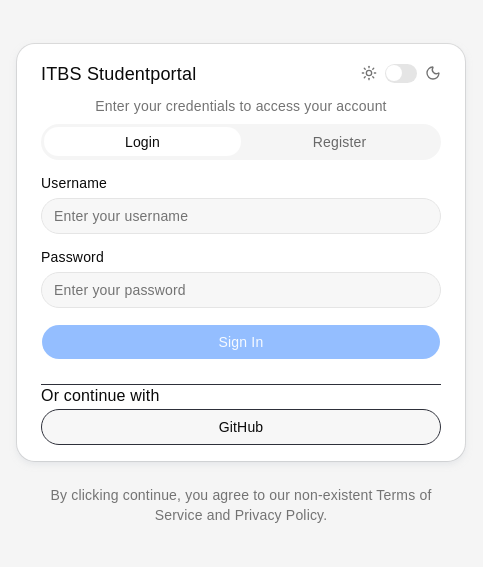
LoginPage › failed login displays error message
This screenshot has width=483, height=567.
Step 1. Type "wronguser" into the field labelled "Username" → (241, 216), box [41, 198, 441, 234]
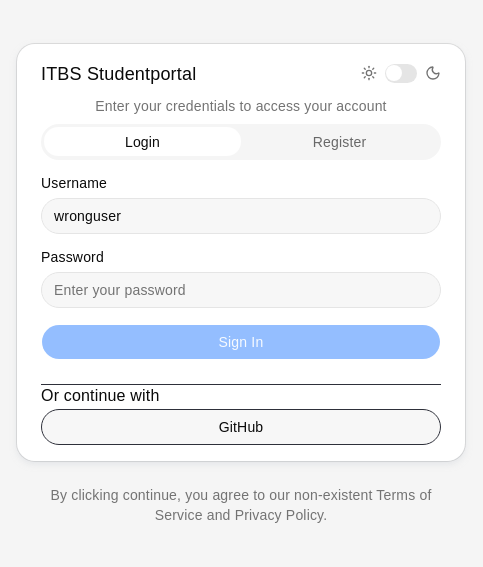
Step 2. Type "wrongpass" into the password field labelled "Password" → (241, 290), box [41, 272, 441, 308]
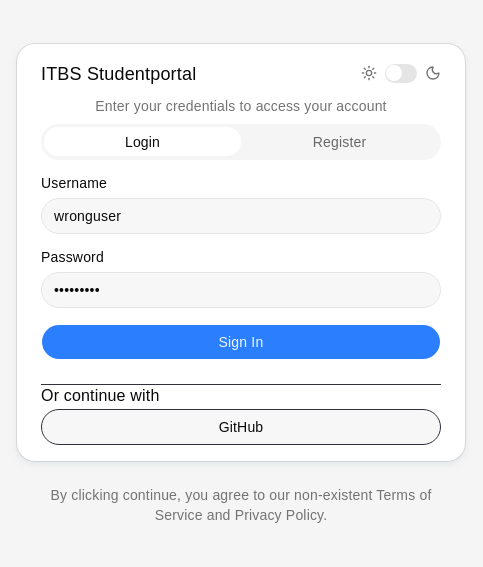
Step 3. Click the submit button → (241, 342), box [41, 324, 441, 360]
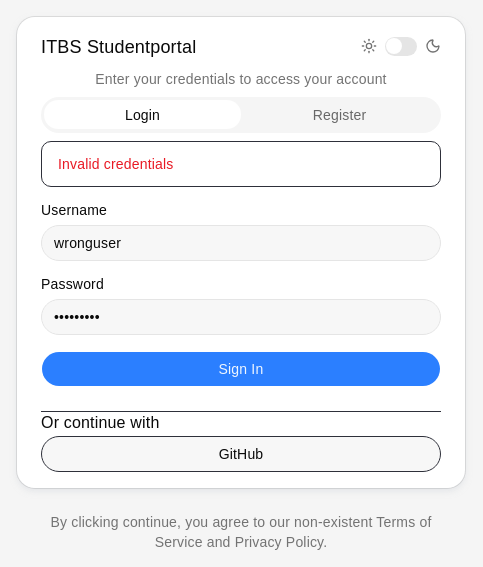
Expected: the text "Invalid credentials" is shown, [58, 156, 174, 172]
